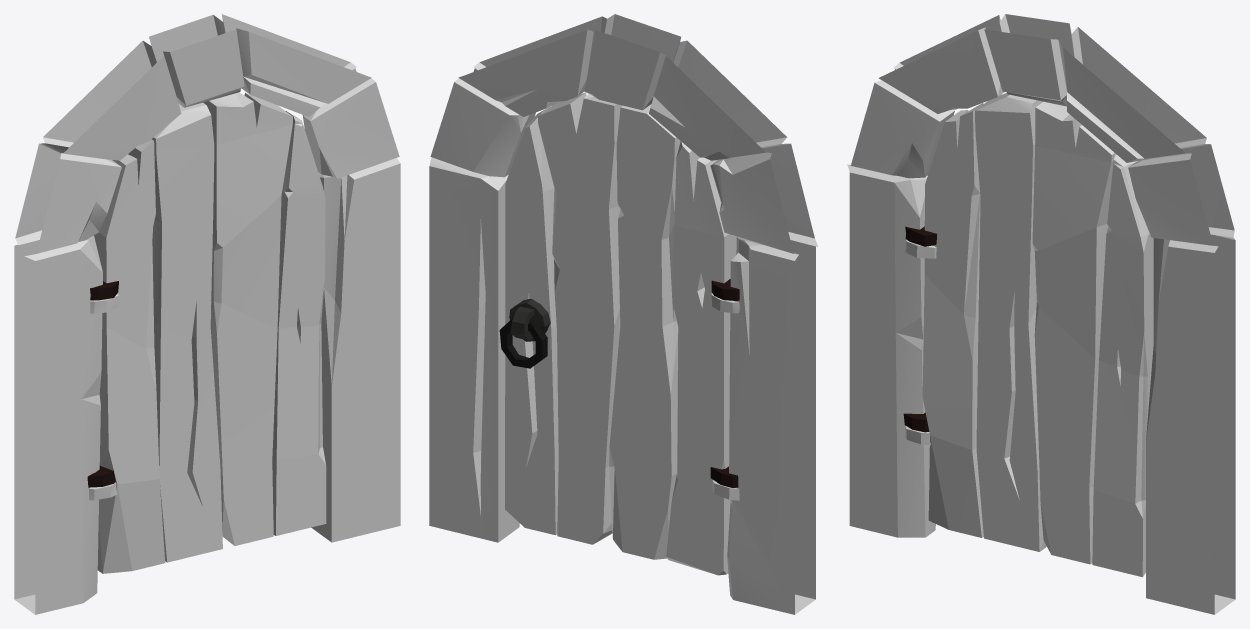
File: NGF_Env_Door_arc_04.fbx
The picture shows the model from 3 angles, left to right: view 1: azimuth 30°, elevation 25°; view 2: azimuth 150°, elevation 25°; view 3: azimuth 330°, elevation 25°; orthographic projection.
Visible parts, largest first — view 1: NGF_Env_Door_arc_04, NGF_Env_Door_07, NGF_Env_Hinges_17, NGF_Env_Hinges_14; view 2: NGF_Env_Door_arc_04, NGF_Env_Door_07, NGF_Env_Handle_09, NGF_Env_Handle_attachment_09, NGF_Env_Hinges_17, NGF_Env_Hinges_14; view 3: NGF_Env_Door_07, NGF_Env_Door_arc_04, NGF_Env_Hinges_17, NGF_Env_Hinges_14.
Boxes of the visible parts, x1,y1,x2,y2 form: NGF_Env_Door_arc_04: (14,14,400,614); NGF_Env_Door_07: (94,92,326,573); NGF_Env_Hinges_17: (87,281,118,487); NGF_Env_Hinges_14: (88,294,118,500); NGF_Env_Door_arc_04: (429,14,818,614); NGF_Env_Door_07: (505,92,736,575); NGF_Env_Handle_09: (499,317,547,368); NGF_Env_Handle_attachment_09: (509,298,550,341); NGF_Env_Hinges_17: (710,279,739,487); NGF_Env_Hinges_14: (711,293,739,500); NGF_Env_Door_07: (922,93,1153,577); NGF_Env_Door_arc_04: (847,14,1235,614); NGF_Env_Hinges_17: (903,226,937,432); NGF_Env_Hinges_14: (905,240,936,445).
Bounding box in the file's own units: 2.05 × 2.81 × 0.3371.
1 material, 1 textured.
